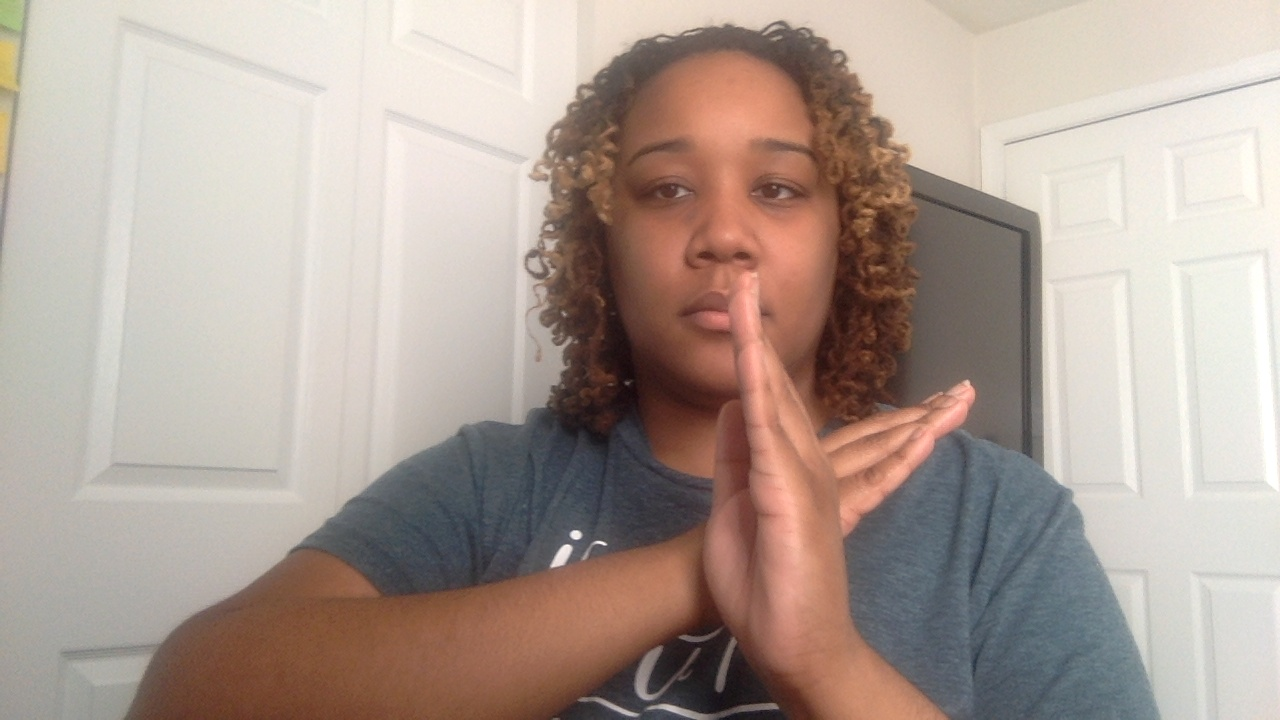quiet: (697, 270, 1010, 703)
